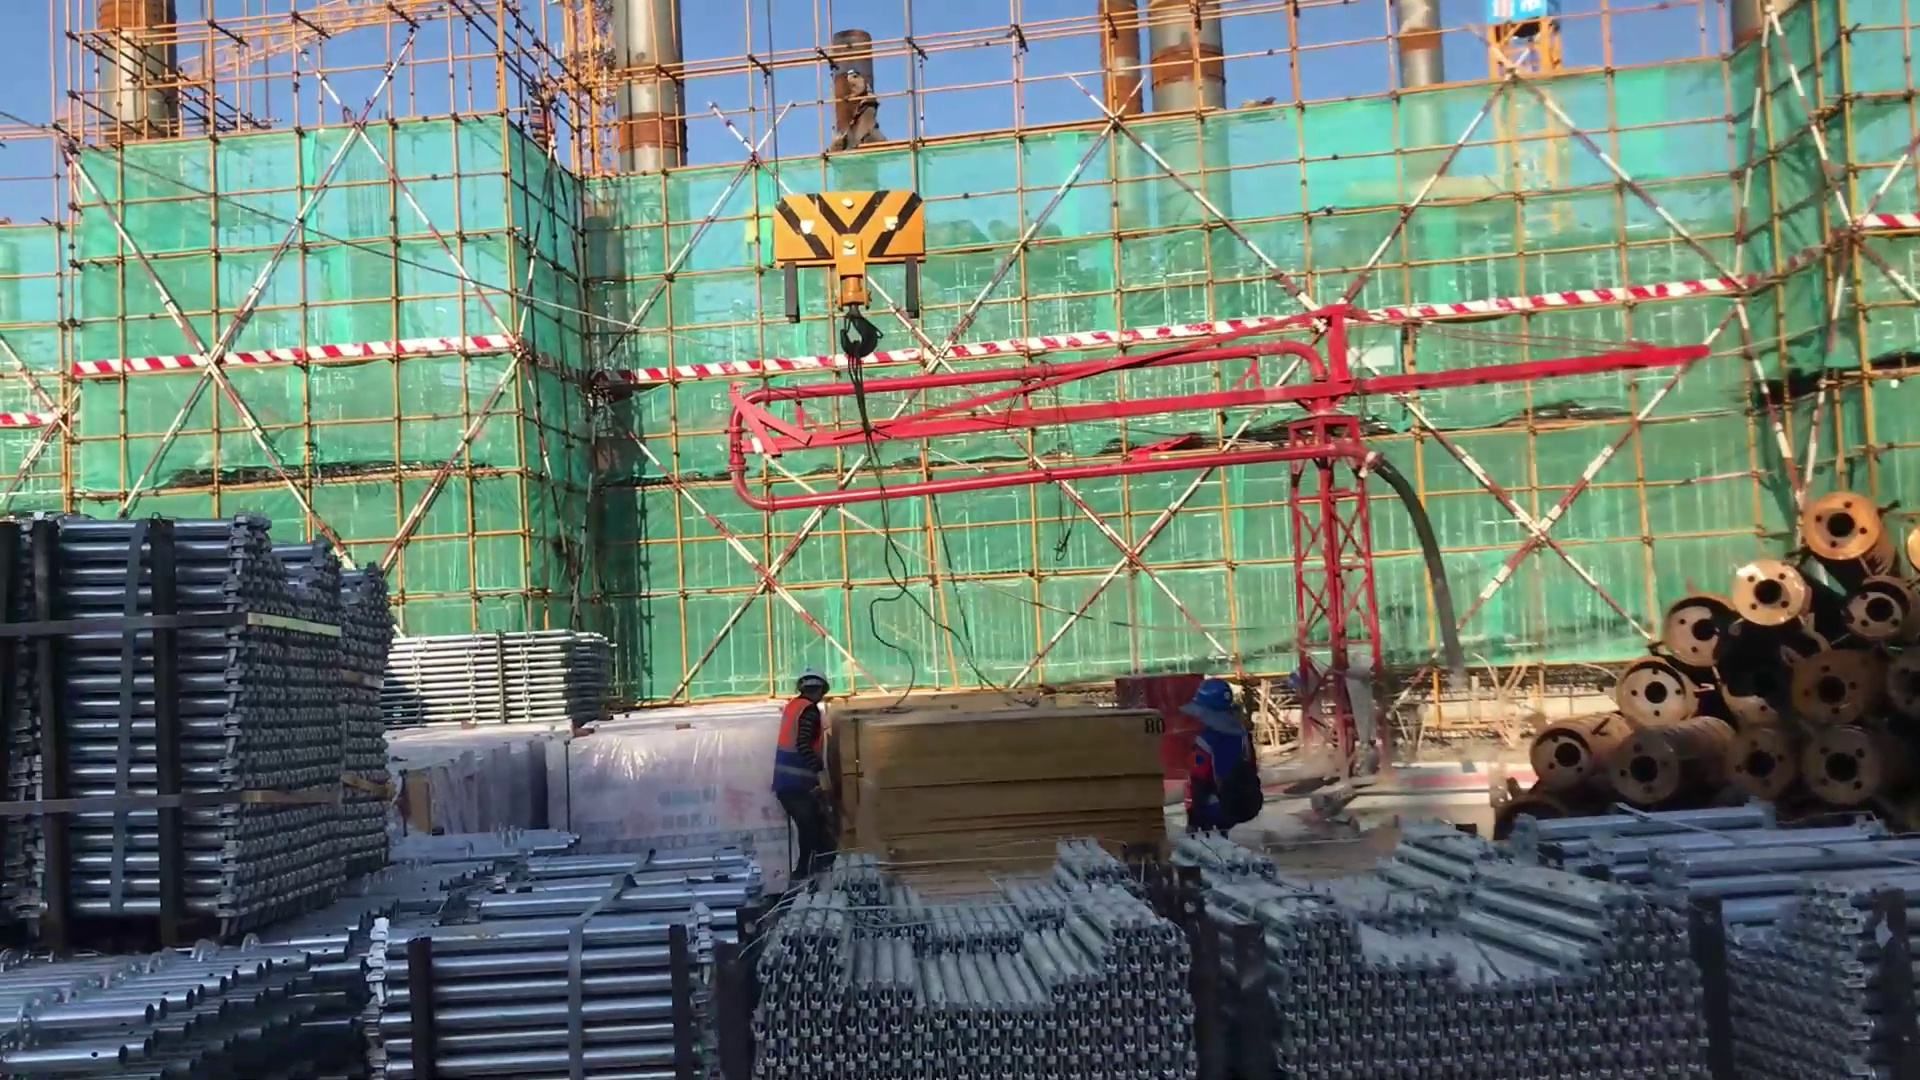board: (841, 708, 1166, 872)
helmet: (1187, 677, 1247, 731), (787, 672, 837, 708)
hook: (751, 180, 958, 430)
person: (767, 667, 849, 885), (1175, 664, 1263, 856), (838, 57, 885, 150)
scaffold: (1, 492, 409, 950), (1480, 784, 1920, 1079), (1215, 809, 1677, 1080), (335, 831, 812, 1080), (735, 844, 1184, 1080), (1, 924, 344, 1075), (376, 617, 615, 730)
vest: (1176, 721, 1262, 838), (773, 694, 828, 804)
